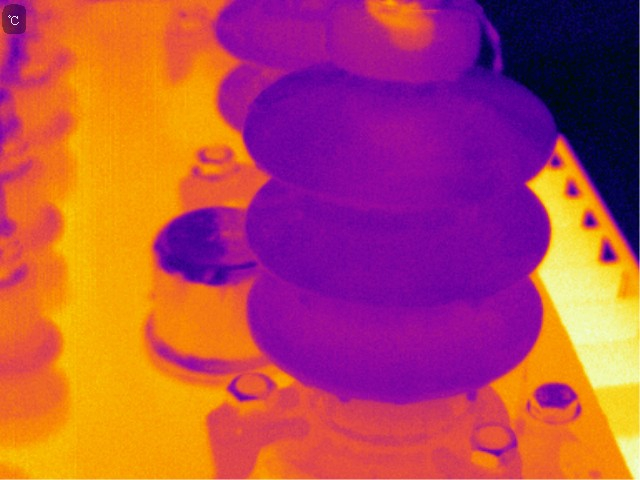Oil: (328, 5, 481, 84), (365, 112, 446, 172), (363, 1, 437, 52), (468, 1, 498, 75), (465, 383, 481, 405)
